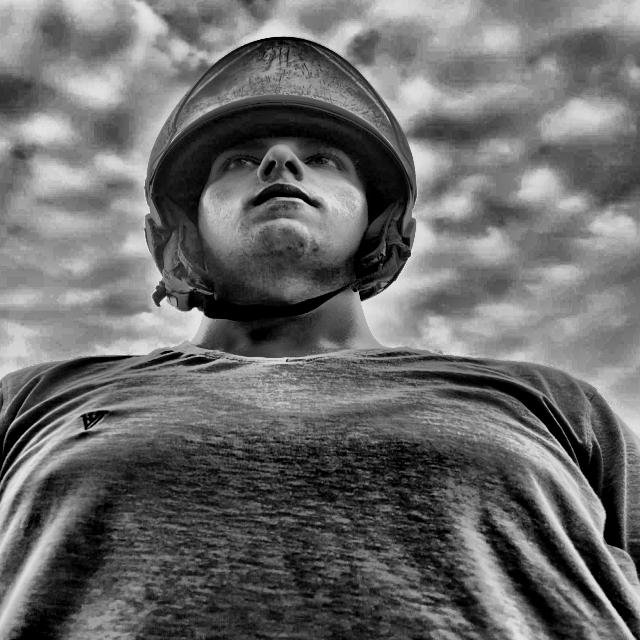Helmet: (116, 26, 431, 348)
